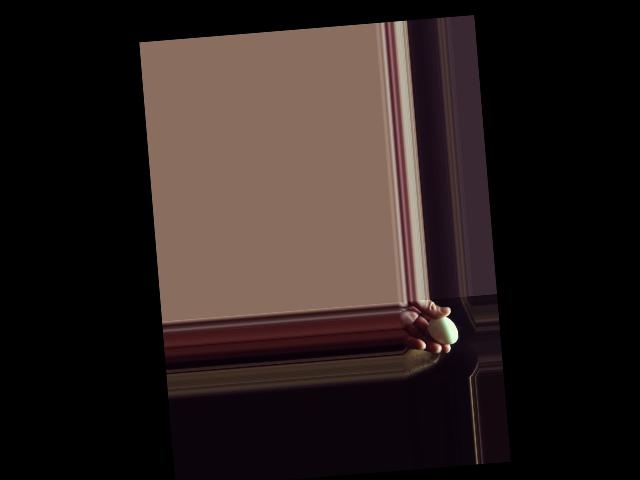egg: (426, 315, 458, 345)
